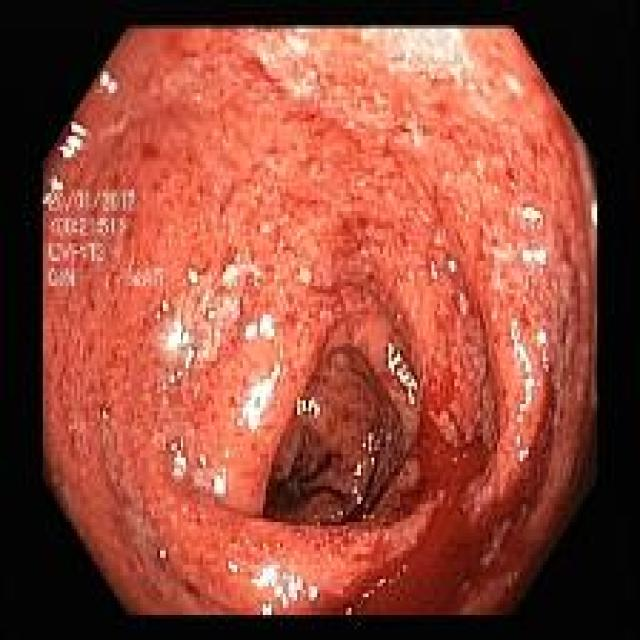ulcerative-colitis: (42, 28, 596, 616)
